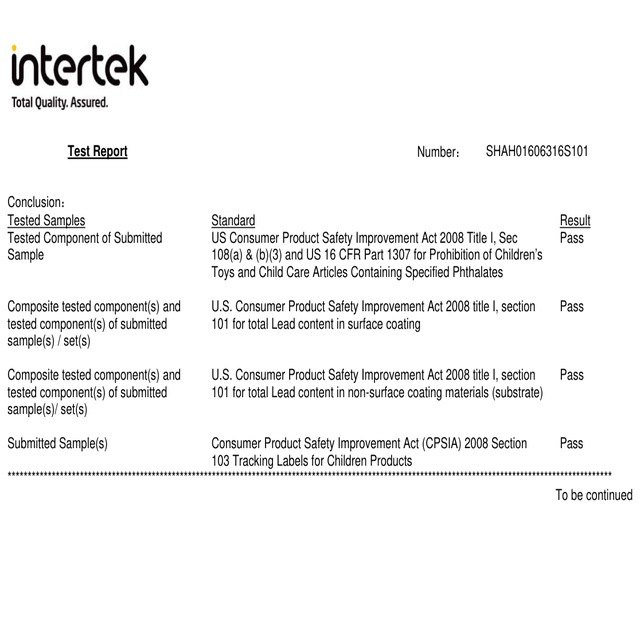intertek: (9, 43, 155, 94)
